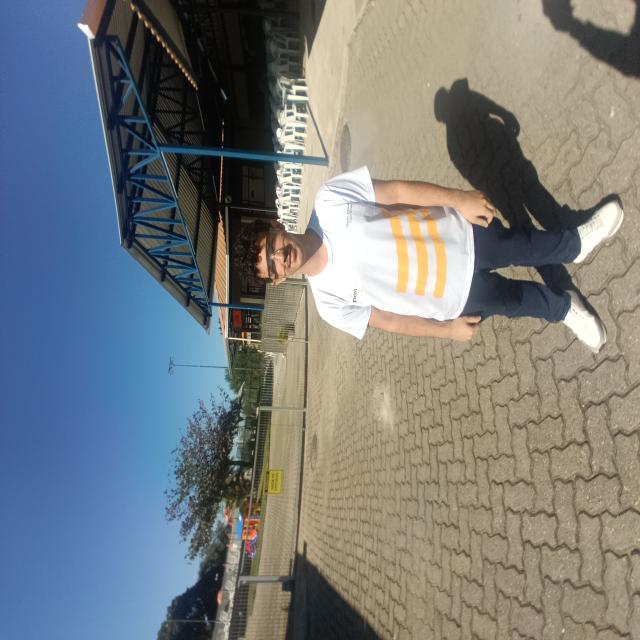oculos-epi: (265, 227, 284, 282)
